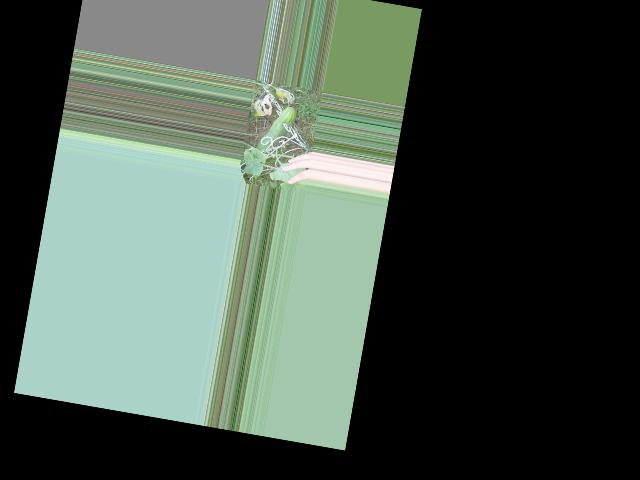cucumber: (256, 102, 297, 156)
